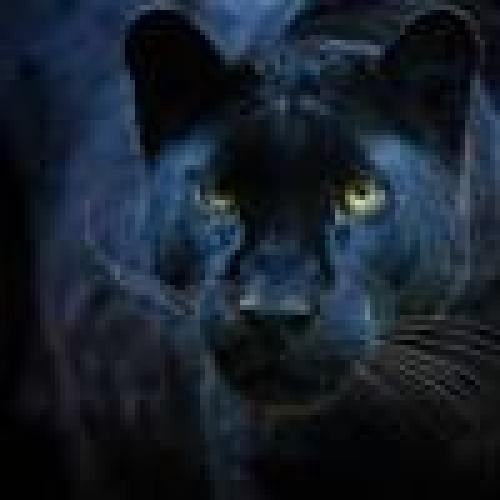panther-endangered: (76, 11, 474, 460)
